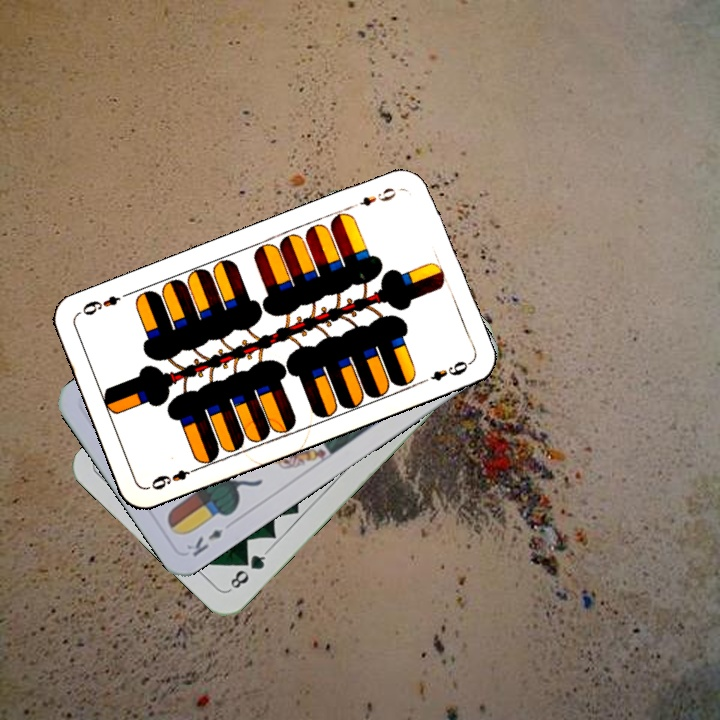E9: (144, 463, 201, 493), (346, 183, 399, 211)
EK: (182, 524, 225, 560)
G8: (225, 546, 271, 593)
